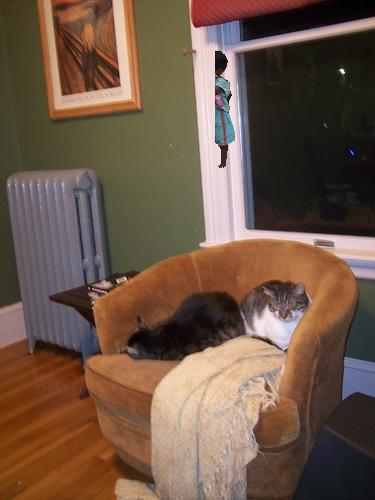tampered: (216, 52, 235, 168)
